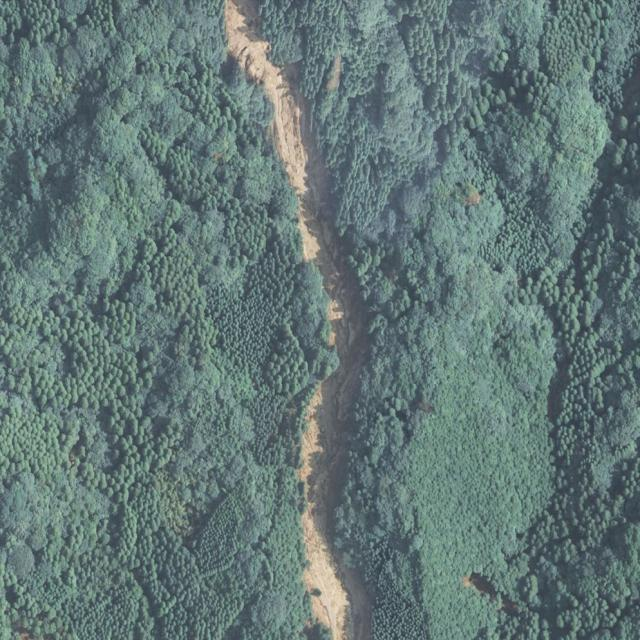landslide: (224, 0, 371, 640)
